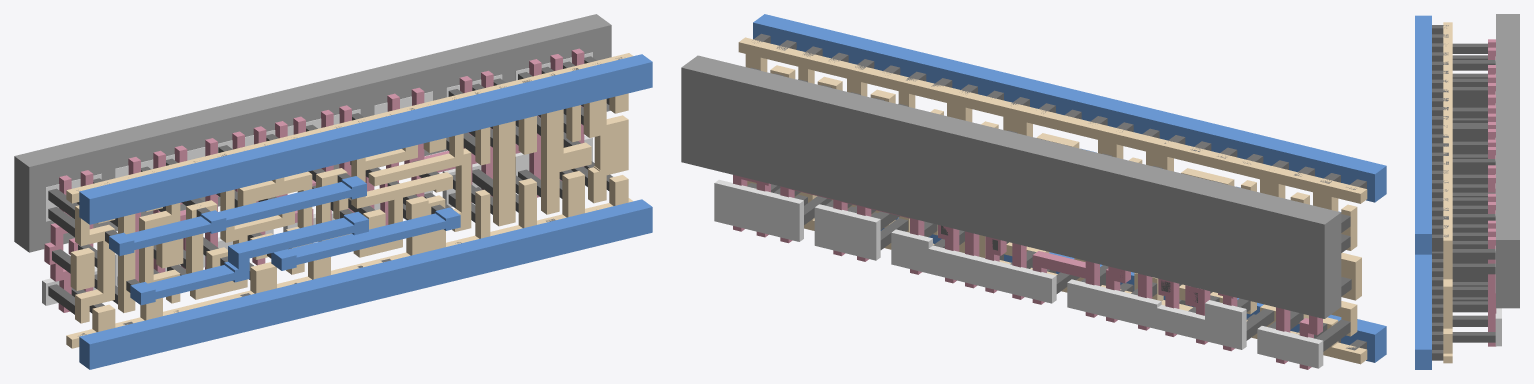
The model's file is sky130_fd_sc_hd__dfsbp_2.gds.gltf.
The picture shows the model from 3 angles, left to right: view 1: azimuth 30°, elevation 25°; view 2: azimuth 150°, elevation 25°; view 3: azimuth 270°, elevation 25°; orthographic projection. The views are drawn at different scales.
Visible parts, largest first — view 1: sky130_fd_sc_hd__dfsbp_2_met1, sky130_fd_sc_hd__dfsbp_2_li1, sky130_fd_sc_hd__dfsbp_2_nwell, sky130_fd_sc_hd__dfsbp_2_poly, sky130_fd_sc_hd__dfsbp_2_licon, sky130_fd_sc_hd__dfsbp_2_diff, sky130_fd_sc_hd__dfsbp_2_mcon; view 2: sky130_fd_sc_hd__dfsbp_2_nwell, sky130_fd_sc_hd__dfsbp_2_li1, sky130_fd_sc_hd__dfsbp_2_diff, sky130_fd_sc_hd__dfsbp_2_met1, sky130_fd_sc_hd__dfsbp_2_poly, sky130_fd_sc_hd__dfsbp_2_licon, sky130_fd_sc_hd__dfsbp_2_mcon; view 3: sky130_fd_sc_hd__dfsbp_2_licon, sky130_fd_sc_hd__dfsbp_2_nwell, sky130_fd_sc_hd__dfsbp_2_met1, sky130_fd_sc_hd__dfsbp_2_mcon, sky130_fd_sc_hd__dfsbp_2_li1, sky130_fd_sc_hd__dfsbp_2_poly, sky130_fd_sc_hd__dfsbp_2_diff.
Boxes of the visible parts, <box> form: sky130_fd_sc_hd__dfsbp_2_met1: <box>79,54,652,369</box>; sky130_fd_sc_hd__dfsbp_2_li1: <box>66,53,633,348</box>; sky130_fd_sc_hd__dfsbp_2_nwell: <box>14,14,611,252</box>; sky130_fd_sc_hd__dfsbp_2_poly: <box>44,48,584,312</box>; sky130_fd_sc_hd__dfsbp_2_licon: <box>48,56,612,314</box>; sky130_fd_sc_hd__dfsbp_2_diff: <box>42,52,592,305</box>; sky130_fd_sc_hd__dfsbp_2_mcon: <box>76,57,622,336</box>; sky130_fd_sc_hd__dfsbp_2_nwell: <box>681,55,1341,318</box>; sky130_fd_sc_hd__dfsbp_2_li1: <box>738,37,1367,364</box>; sky130_fd_sc_hd__dfsbp_2_diff: <box>714,179,1323,368</box>; sky130_fd_sc_hd__dfsbp_2_met1: <box>753,14,1386,362</box>; sky130_fd_sc_hd__dfsbp_2_poly: <box>733,175,1322,369</box>; sky130_fd_sc_hd__dfsbp_2_licon: <box>747,67,1351,351</box>; sky130_fd_sc_hd__dfsbp_2_mcon: <box>752,33,1366,350</box>; sky130_fd_sc_hd__dfsbp_2_licon: <box>1452,43,1495,342</box>; sky130_fd_sc_hd__dfsbp_2_nwell: <box>1496,14,1519,308</box>; sky130_fd_sc_hd__dfsbp_2_met1: <box>1415,15,1431,369</box>; sky130_fd_sc_hd__dfsbp_2_mcon: <box>1432,25,1448,360</box>; sky130_fd_sc_hd__dfsbp_2_li1: <box>1443,22,1452,363</box>; sky130_fd_sc_hd__dfsbp_2_poly: <box>1488,39,1496,346</box>; sky130_fd_sc_hd__dfsbp_2_diff: <box>1495,56,1501,346</box>.
Size of the model in its own units: 11.42 by 3.2 by 2.24.
